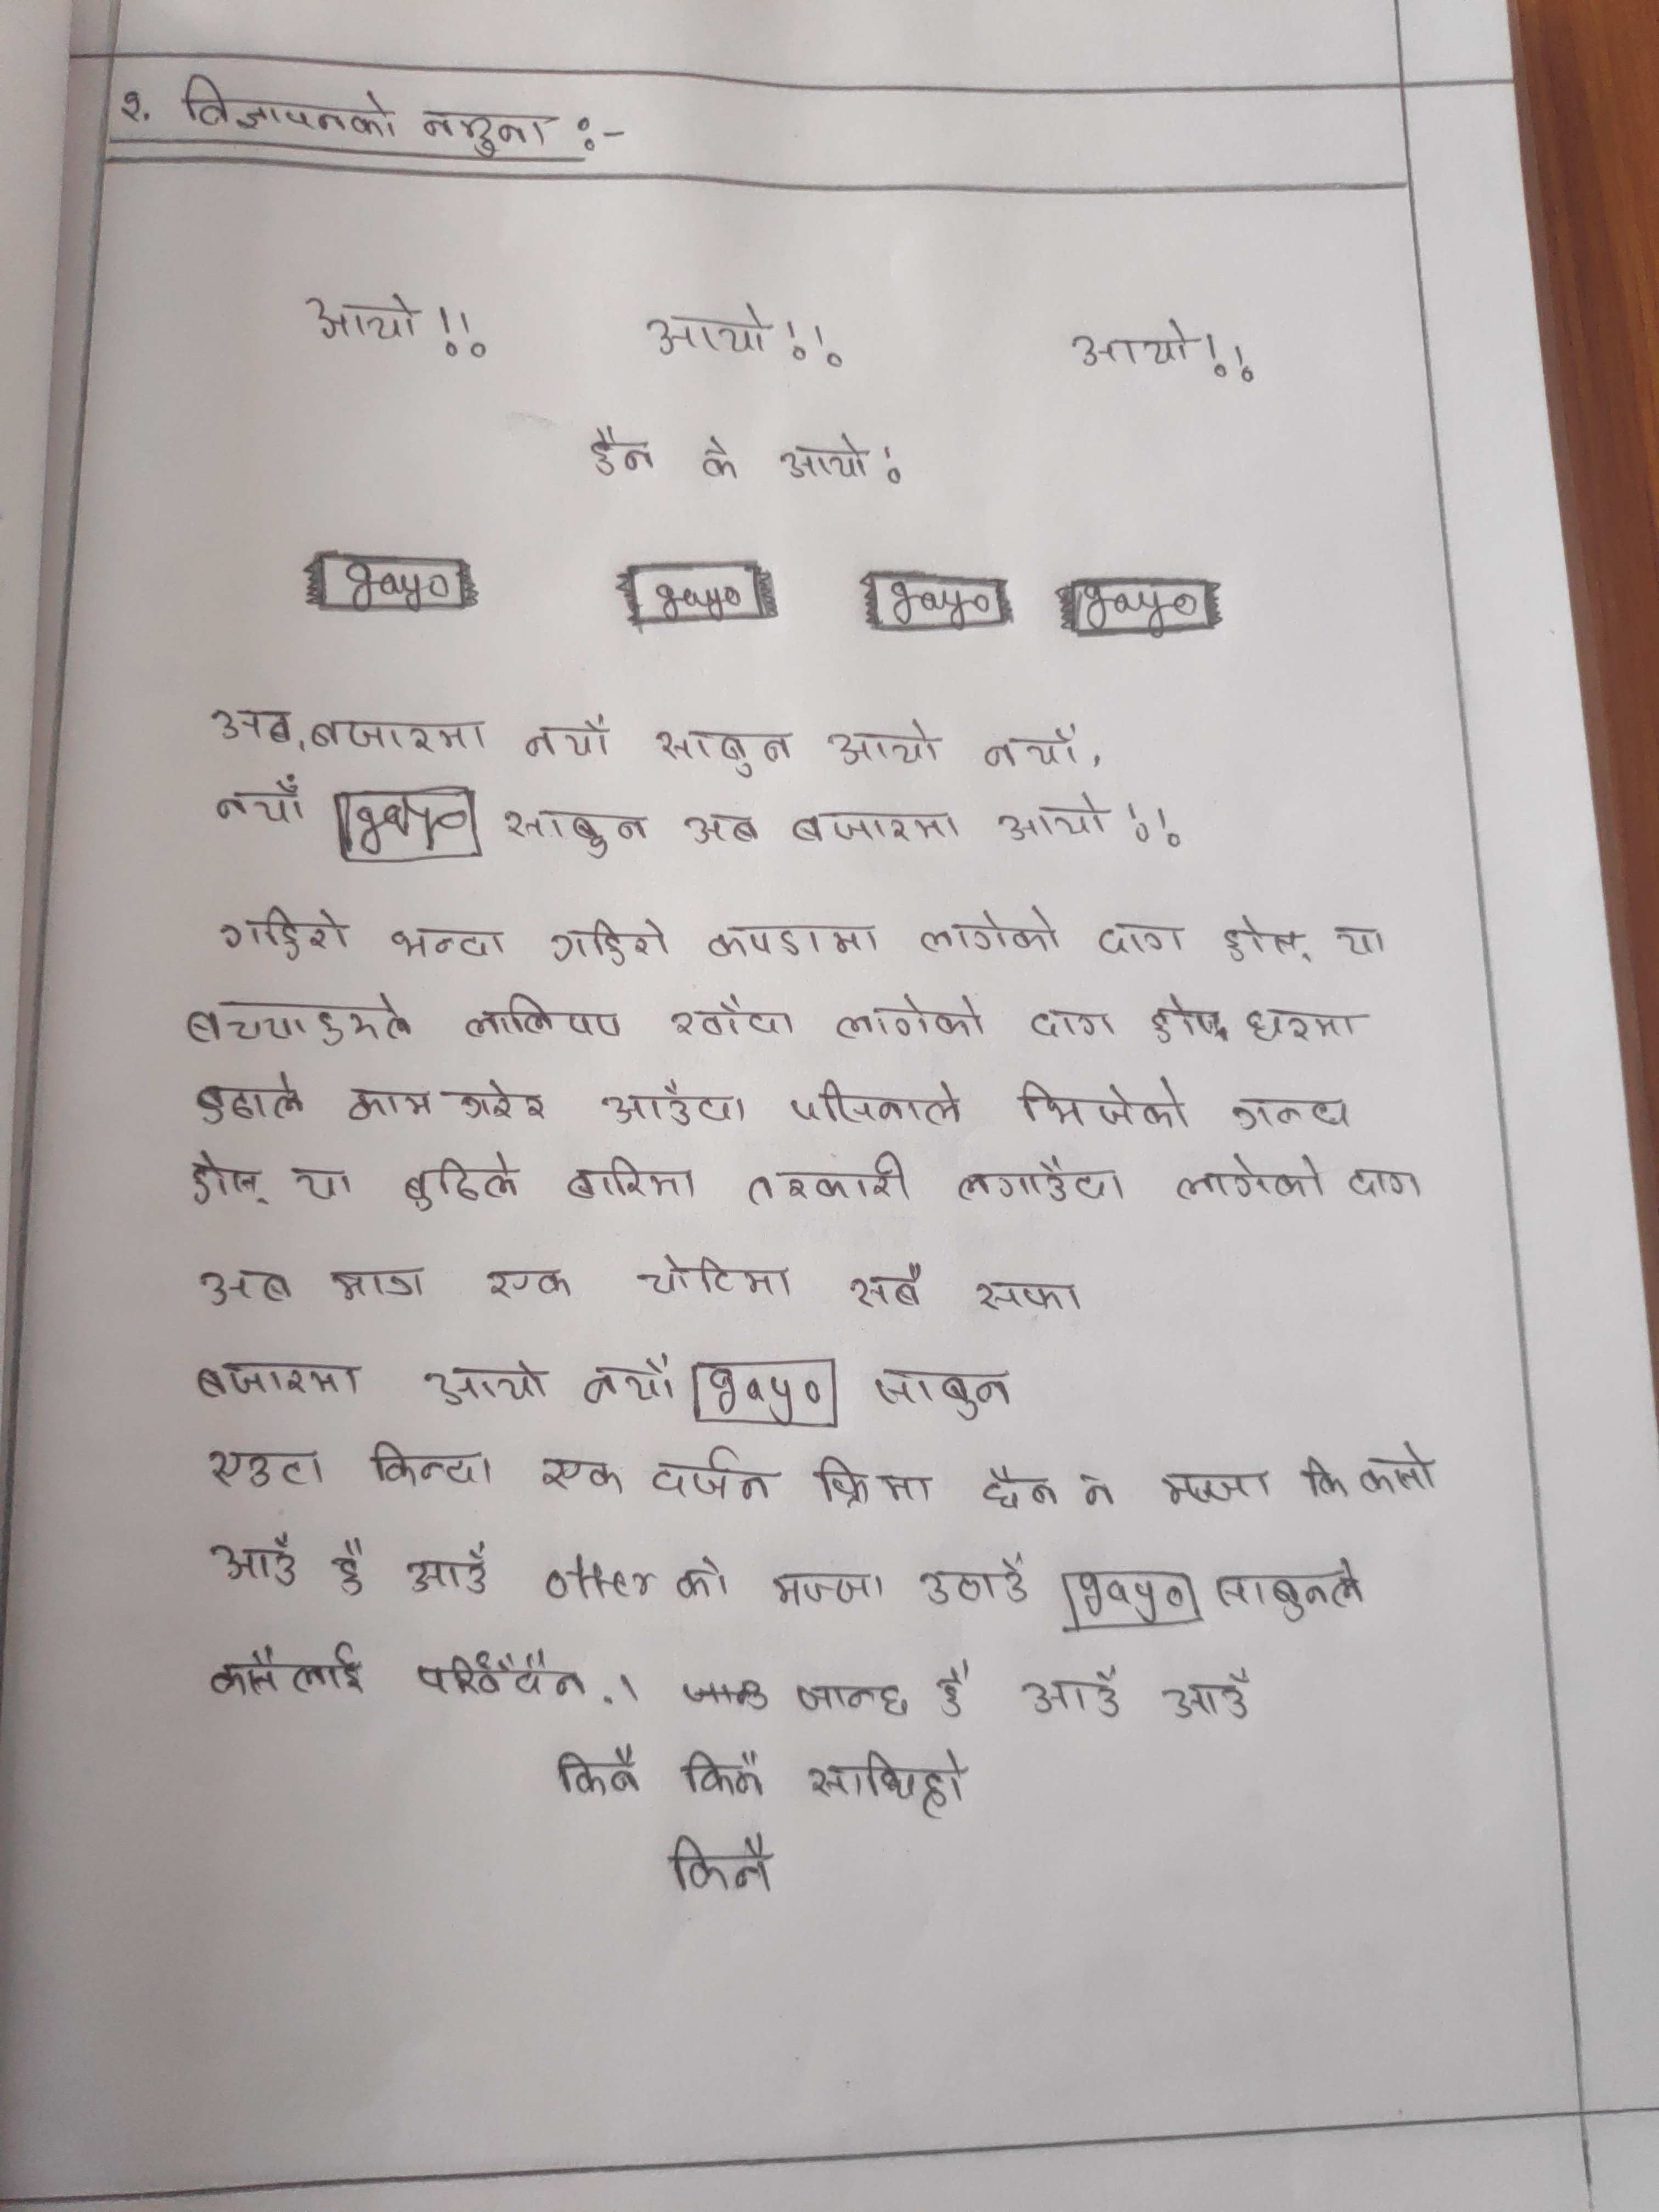text: (181, 68, 403, 141), (181, 989, 415, 1049), (798, 1747, 972, 1820), (1006, 1071, 1195, 1136), (206, 1635, 373, 1705), (1211, 1555, 1373, 1627), (742, 1144, 915, 1209), (955, 1151, 1129, 1209), (410, 1649, 594, 1703), (186, 1348, 369, 1402), (789, 1075, 964, 1130), (863, 1359, 1012, 1421), (504, 805, 657, 860), (645, 1444, 777, 1508), (460, 989, 627, 1040), (211, 902, 352, 961), (655, 719, 791, 780), (660, 1829, 777, 1898), (833, 989, 988, 1042), (638, 1249, 798, 1299), (598, 1080, 753, 1130), (643, 300, 774, 359), (401, 1150, 526, 1211), (1173, 1155, 1330, 1204), (918, 907, 1063, 960), (809, 1454, 939, 1512), (784, 806, 971, 846), (702, 920, 887, 960), (917, 1550, 1035, 1611), (303, 714, 490, 752), (415, 105, 556, 155), (202, 1440, 338, 1493), (422, 1359, 552, 1413), (817, 719, 943, 775), (566, 1157, 699, 1209), (300, 289, 420, 347), (192, 1071, 310, 1129), (1154, 1665, 1258, 1730), (362, 1439, 495, 1489), (547, 914, 671, 968), (1066, 317, 1194, 369), (1225, 1090, 1358, 1139), (579, 1353, 687, 1413), (1019, 1665, 1127, 1721), (997, 787, 1105, 841), (211, 773, 310, 831), (666, 998, 796, 1042), (181, 1146, 272, 1209), (390, 920, 511, 967), (1241, 1003, 1370, 1047), (775, 428, 870, 488), (969, 1273, 1091, 1318), (551, 1740, 643, 1799), (770, 1566, 894, 1609), (795, 1677, 915, 1721), (204, 1536, 303, 1588), (404, 1540, 491, 1599), (1154, 1467, 1276, 1508), (1356, 1439, 1436, 1501), (326, 1259, 437, 1303), (1218, 916, 1314, 967), (676, 1747, 769, 1799), (978, 725, 1084, 770), (974, 1463, 1063, 1517), (192, 1263, 293, 1310), (448, 1076, 551, 1122), (535, 1449, 629, 1498), (1145, 991, 1229, 1045), (342, 1080, 437, 1127), (209, 700, 298, 751), (523, 712, 617, 759), (484, 1258, 577, 1305), (582, 425, 659, 481), (1094, 916, 1188, 958), (845, 1264, 929, 1310), (932, 1655, 983, 1726), (1345, 1162, 1429, 1204), (1023, 1007, 1124, 1040), (681, 808, 767, 846), (674, 1555, 735, 1606), (1298, 1454, 1354, 1508), (329, 1534, 373, 1599), (1333, 920, 1394, 963), (291, 1163, 357, 1204), (694, 432, 741, 481), (1073, 1468, 1121, 1508)
